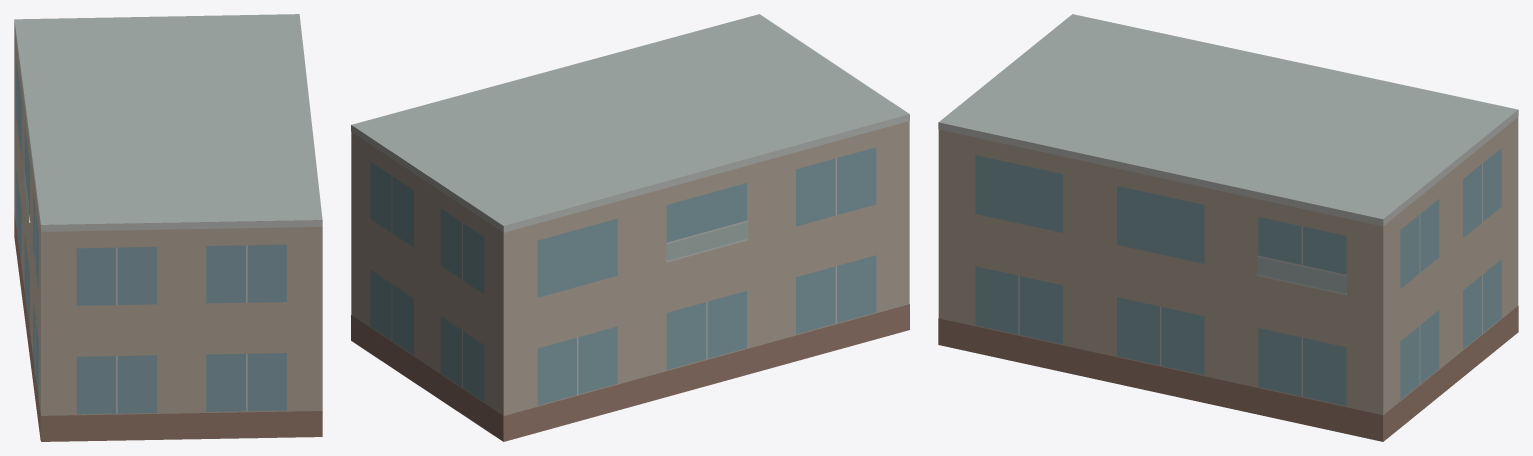
Rendered from survey-upis-32893343.glb.
3 renders of one model, left to right at view 1: azimuth 30°, elevation 25°; view 2: azimuth 150°, elevation 25°; view 3: azimuth 270°, elevation 25°, orthographic. The views are drawn at different scales.
Visible parts, largest first — view 1: survey-upis-32893343.tmp; view 2: survey-upis-32893343.tmp; view 3: survey-upis-32893343.tmp.
Part boxes in pixels (x1,y1,x2,y2): survey-upis-32893343.tmp: (14, 14, 322, 441); survey-upis-32893343.tmp: (351, 14, 909, 441); survey-upis-32893343.tmp: (938, 14, 1518, 441).
Bounding box in the file's own units: 15.24 × 7.7 × 18.2.
